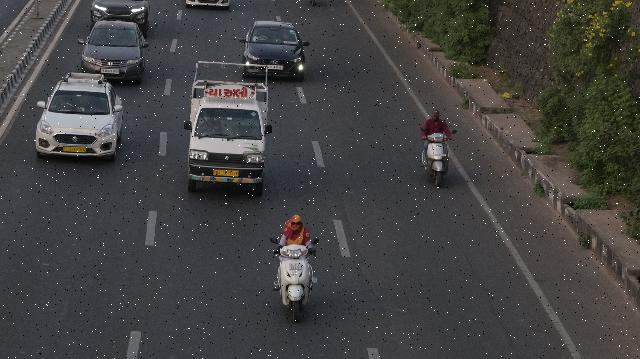Without Helmet: (286, 214, 304, 231), (430, 108, 440, 122)
